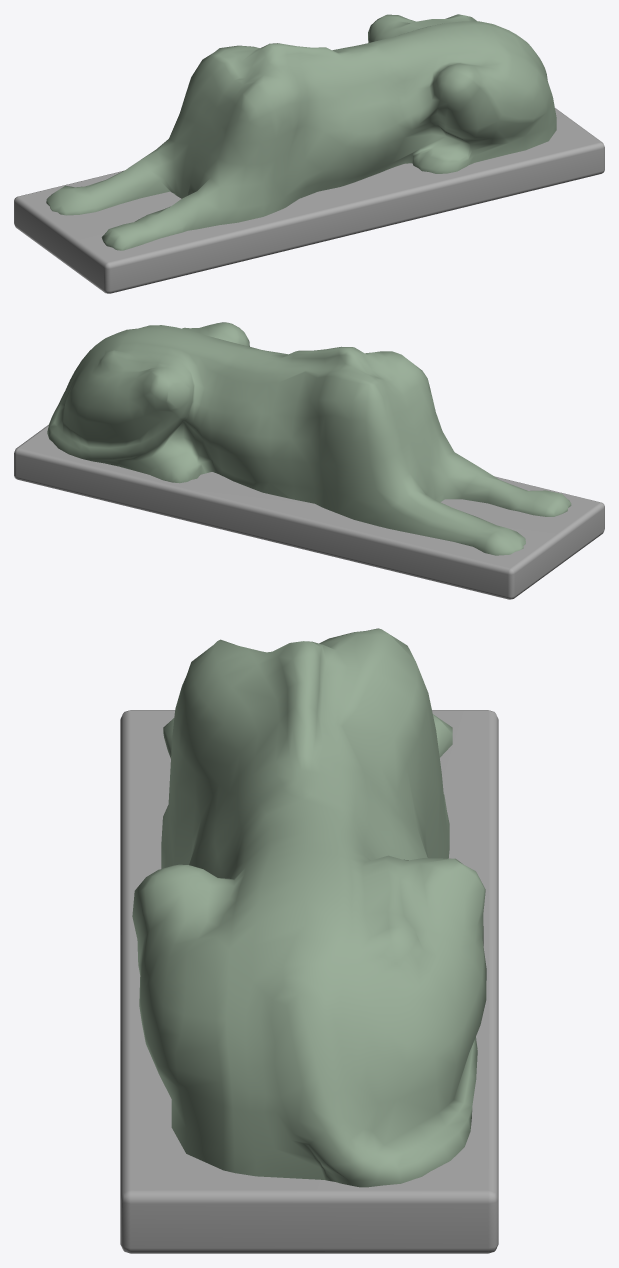
Rendered from ESFINGE.fbx.
3 renders of one model, top to bottom at view 1: azimuth 30°, elevation 25°; view 2: azimuth 150°, elevation 25°; view 3: azimuth 270°, elevation 25°, orthographic. The views are drawn at different scales.
Visible parts, largest first — view 1: pCube2; view 2: pCube2; view 3: pCube2.
Boxes of the visible parts, left/top/right/bottom form: pCube2: left=14, top=14, right=604, bottom=293; pCube2: left=14, top=322, right=604, bottom=599; pCube2: left=120, top=628, right=498, bottom=1253.
Size of the model in its own units: 1751 by 558 by 574.
